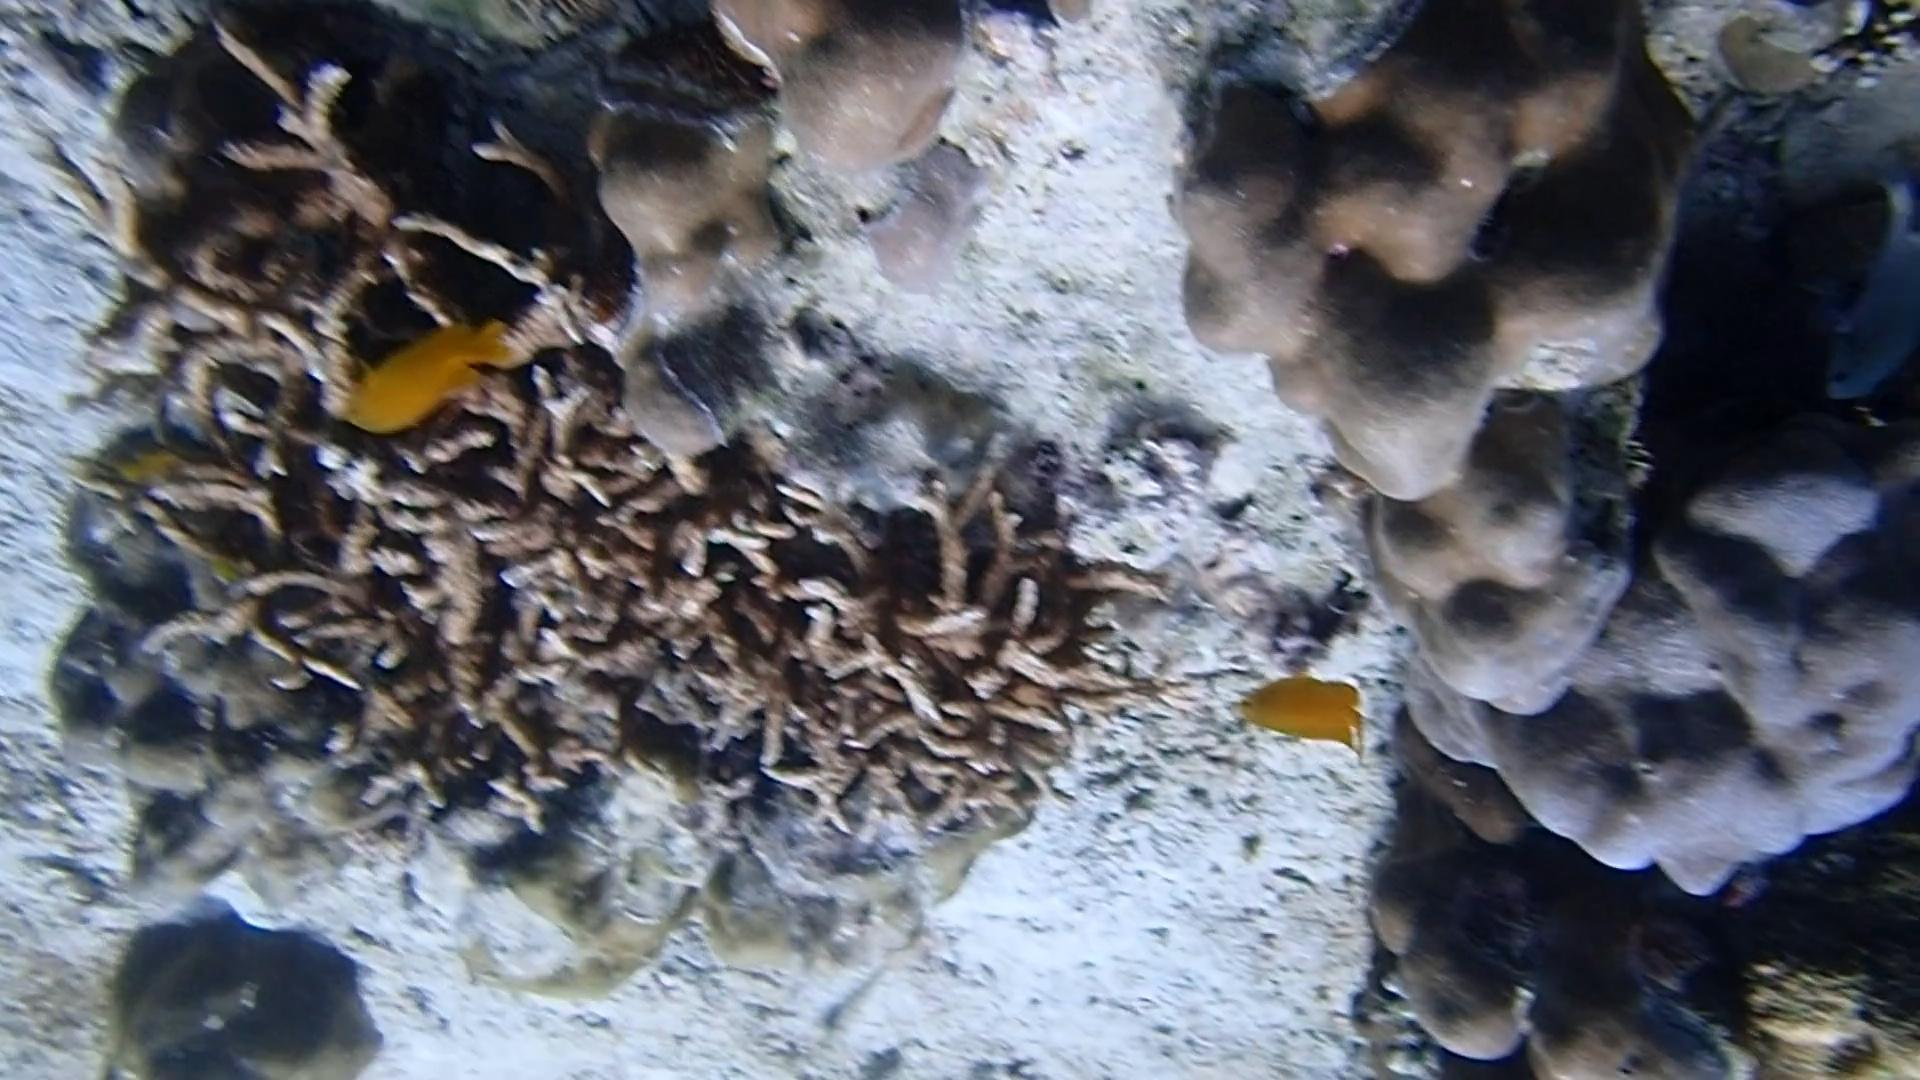Blue Fish Two: (1815, 145, 1920, 415)
Yellow Fish: (344, 311, 518, 440), (1234, 654, 1382, 766)
